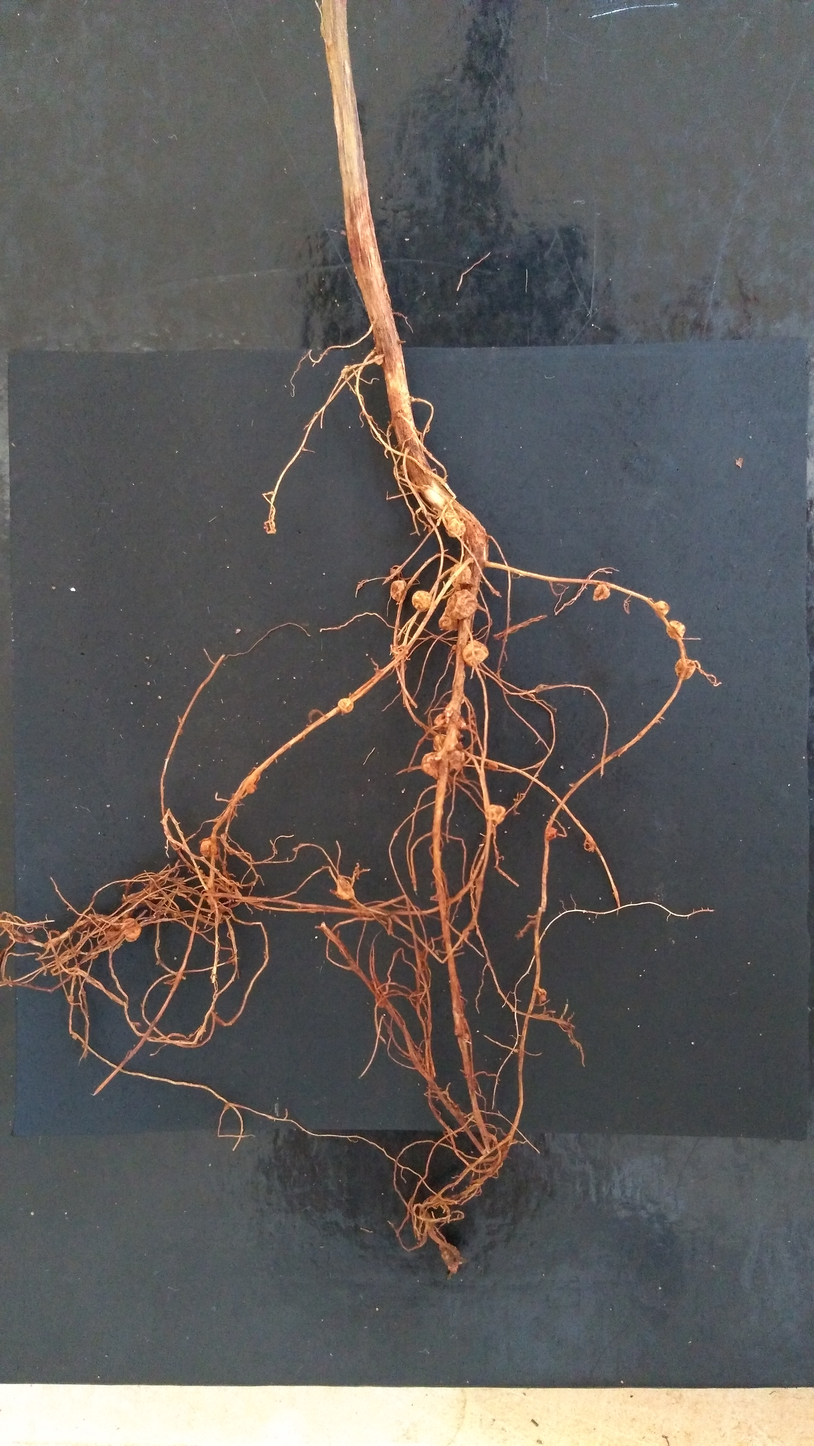nodule: (432, 734, 464, 769), (445, 589, 478, 621), (421, 752, 454, 778), (462, 640, 489, 668), (433, 711, 467, 730), (450, 562, 473, 590), (333, 874, 356, 901), (444, 509, 466, 537), (121, 917, 142, 942), (438, 610, 461, 632), (674, 658, 696, 680), (200, 838, 221, 860), (412, 590, 432, 612), (485, 804, 505, 825), (665, 620, 686, 640), (390, 579, 407, 602), (593, 582, 610, 602), (441, 1248, 456, 1269), (654, 600, 670, 618), (337, 697, 354, 713), (207, 887, 219, 906), (247, 773, 257, 794), (545, 824, 557, 840), (536, 988, 547, 1002), (486, 760, 499, 771), (374, 354, 385, 365), (400, 464, 408, 476)
